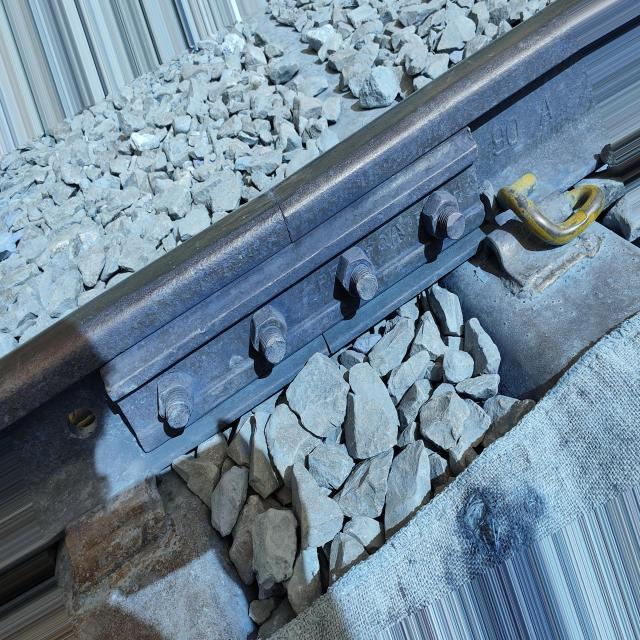Good Fasteners: (486, 174, 606, 294)
Good Joint: (100, 129, 485, 451)
Missing Fastener: (65, 476, 167, 591)
